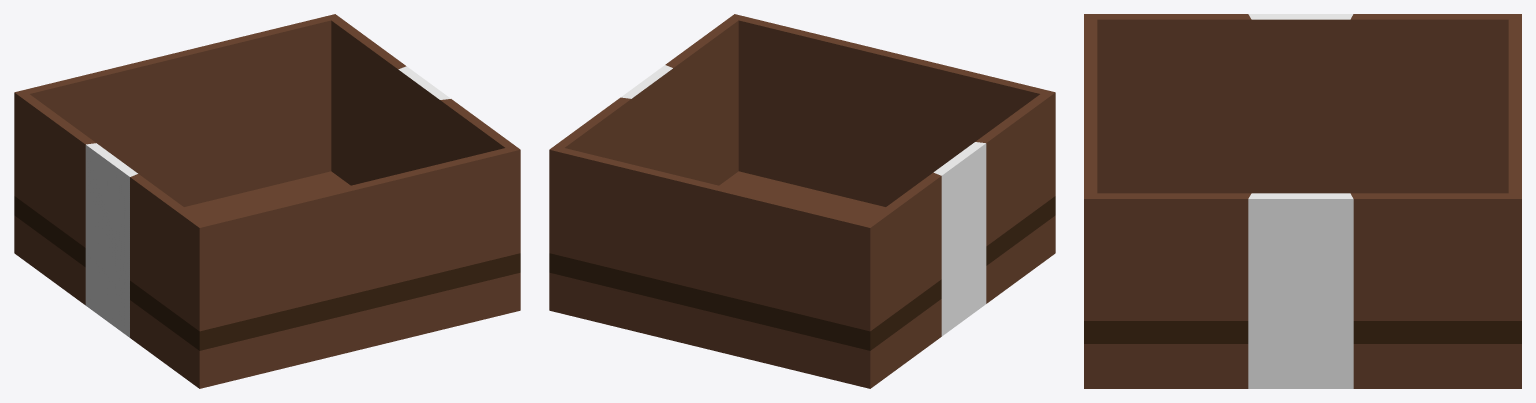
File: destructible-cartoonbox4.obj
The picture shows the model from 3 angles, left to right: view 1: azimuth 30°, elevation 25°; view 2: azimuth 150°, elevation 25°; view 3: azimuth 270°, elevation 25°; orthographic projection. The views are drawn at different scales.
Parts seen in each view (by area): view 1: Cube.003; view 2: Cube.003; view 3: Cube.003.
Boxes of the visible parts, left/top/right/bottom form: Cube.003: left=14, top=14, right=520, bottom=388; Cube.003: left=549, top=14, right=1055, bottom=388; Cube.003: left=1084, top=14, right=1521, bottom=388.
Size of the model in its own units: 2 by 0.958 by 2.
